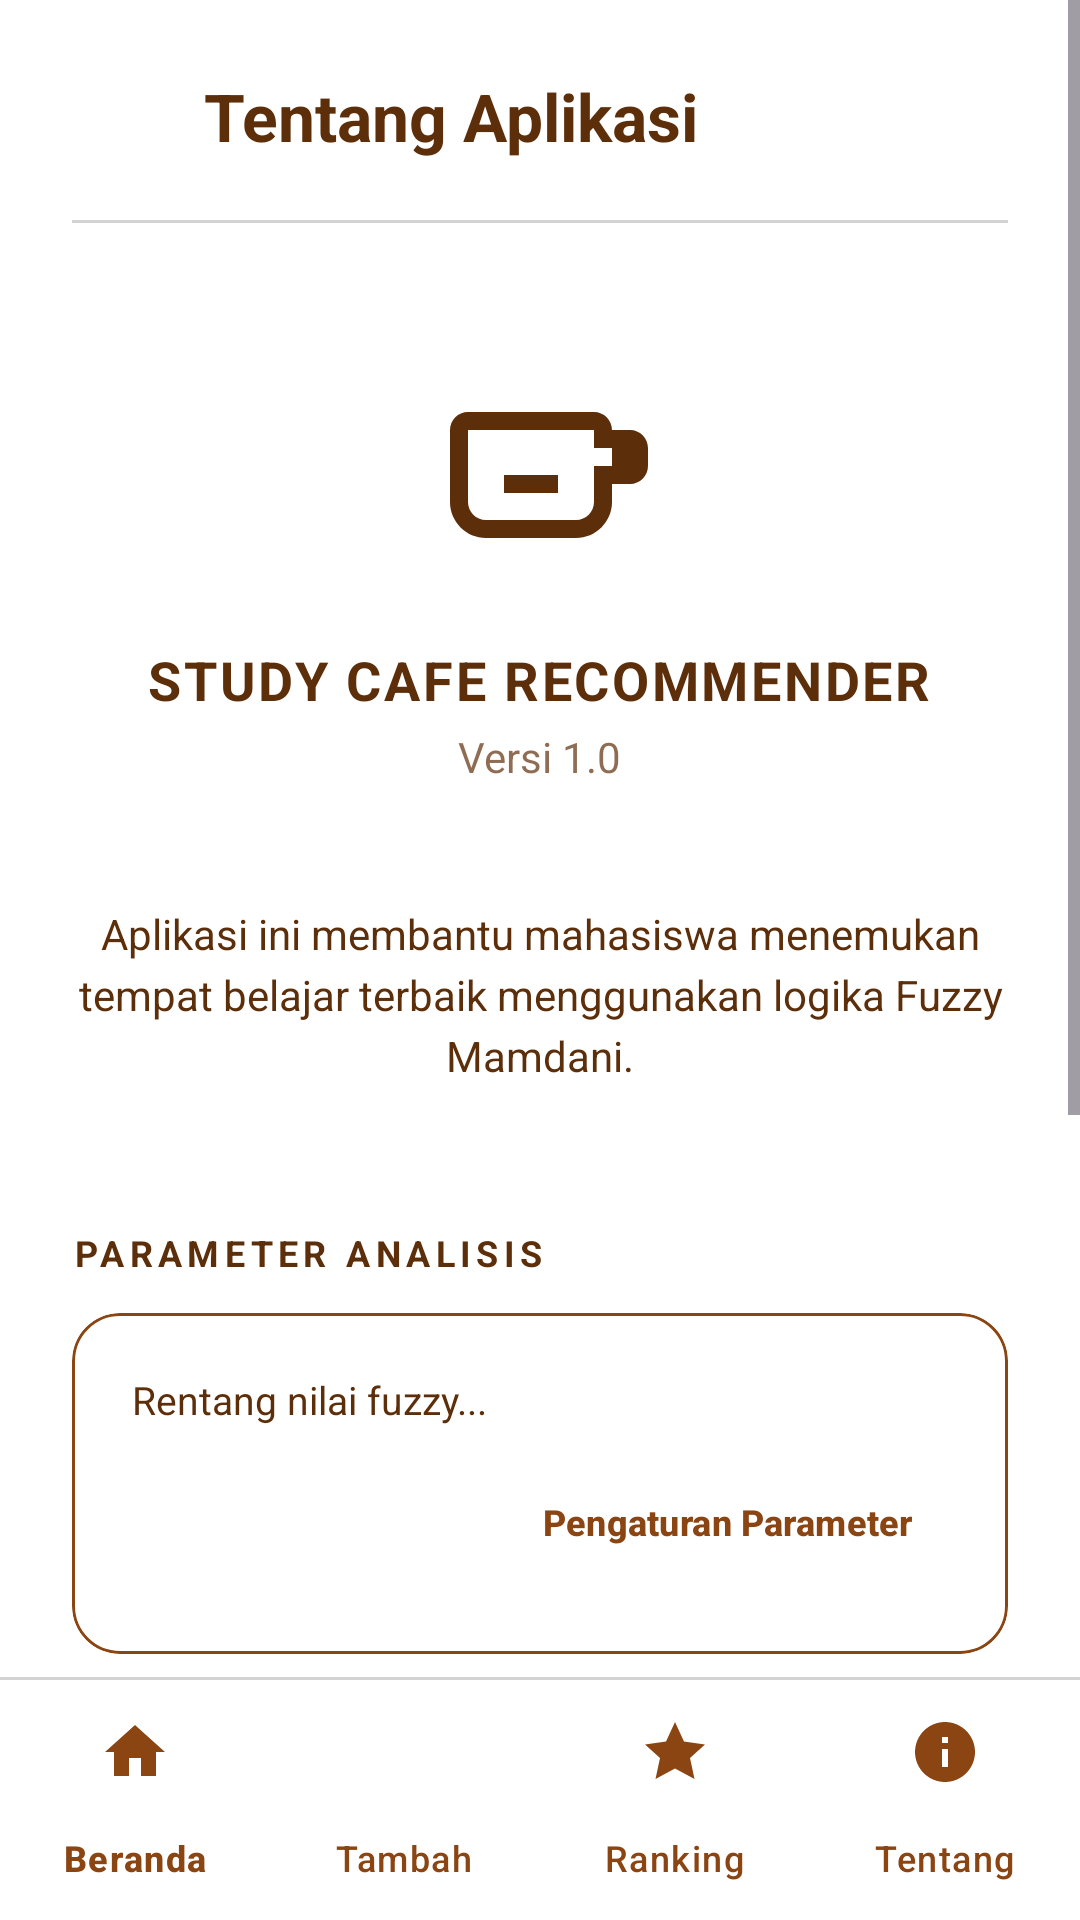

Where to tap for icons on this 1080 x 1920 app screen, as [x,y]:
coffee: [549,475]
